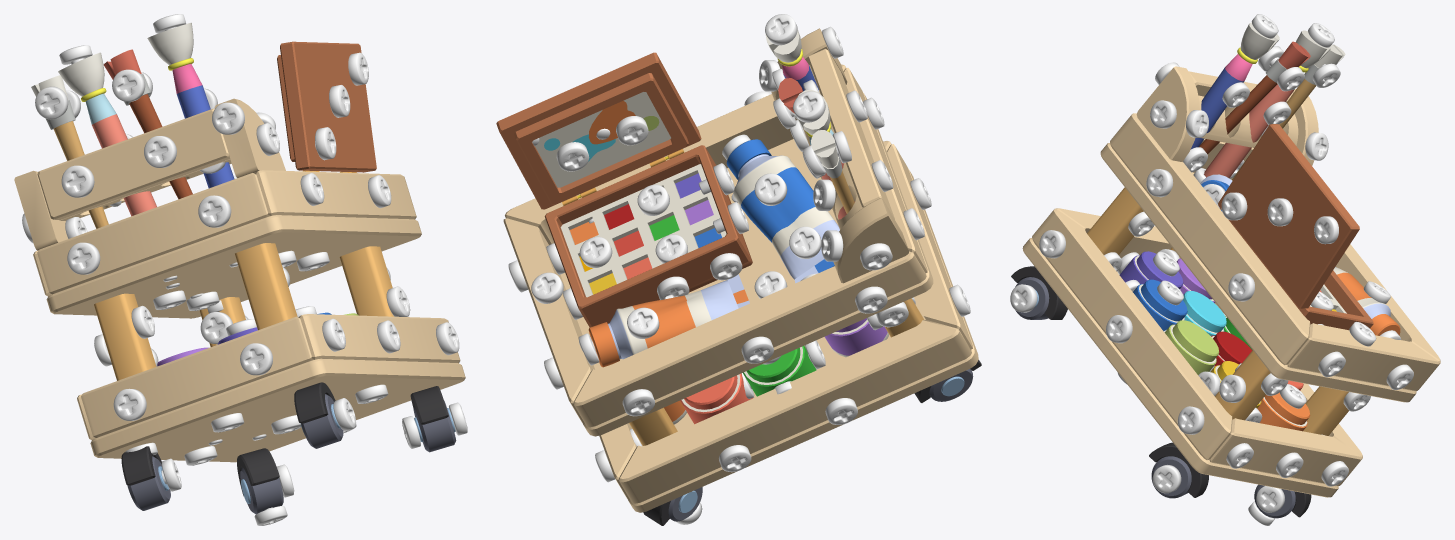
File: PaintingCart_GroupE.fbx
The picture shows the model from 3 angles, left to right: view 1: azimuth 30°, elevation 25°; view 2: azimuth 150°, elevation 25°; view 3: azimuth 270°, elevation 25°; orthographic projection. The views are drawn at different scales.
Visible parts, largest first — view 1: Screw (×22), PaintingCart_038, PaintingCart_033, PaintingCart_016, PaintingCart_036, PaintingCart_041, PaintingCart_006, PaintingCart_035, PaintingCart_032, PaintingCart_005, PaintingCart_040, PaintingCart_013 (+9 smaller); view 2: PaintingCart_039, Screw (×24), PaintingCart_016, PaintingCart_034, PaintingCart_017, PaintingCart_033, PaintingCart_007, PaintingCart_002, PaintingCart_042, PaintingCart_038, PaintingCart_035, PaintingCart_020 (+18 smaller); view 3: Screw (×23), PaintingCart_016, PaintingCart_035, PaintingCart_040, PaintingCart_033, PaintingCart_038, PaintingCart_005, PaintingCart_042, PaintingCart_037, PaintingCart_032, PaintingCart_004, PaintingCart_013 (+20 smaller).
Boxes of the visible parts, x1,y1,x2,y2 form: Screw (×22): [35, 52, 459, 430]; PaintingCart_038: [90, 358, 465, 462]; PaintingCart_033: [46, 215, 421, 318]; PaintingCart_016: [277, 41, 376, 172]; PaintingCart_036: [37, 173, 267, 294]; PaintingCart_041: [81, 316, 311, 437]; PaintingCart_006: [37, 108, 230, 219]; PaintingCart_035: [254, 170, 416, 219]; PaintingCart_032: [31, 52, 160, 228]; PaintingCart_005: [103, 22, 234, 199]; PaintingCart_040: [298, 314, 460, 363]; PaintingCart_013: [235, 243, 297, 330]; PaintingCart_039: [619, 320, 971, 503]; Screw (×24): [531, 14, 908, 472]; PaintingCart_016: [496, 52, 701, 209]; PaintingCart_034: [573, 251, 926, 427]; PaintingCart_017: [560, 164, 726, 297]; PaintingCart_033: [560, 92, 933, 436]; PaintingCart_007: [726, 139, 839, 283]; PaintingCart_002: [588, 274, 749, 367]; PaintingCart_042: [503, 218, 594, 424]; PaintingCart_038: [628, 169, 978, 512]; PaintingCart_035: [505, 64, 846, 244]; PaintingCart_020: [580, 235, 749, 326]; Screw (×23): [1010, 63, 1413, 512]; PaintingCart_016: [1218, 124, 1359, 308]; PaintingCart_035: [1110, 114, 1310, 365]; PaintingCart_040: [1032, 209, 1232, 459]; PaintingCart_033: [1100, 143, 1416, 402]; PaintingCart_038: [1022, 238, 1338, 497]; PaintingCart_005: [1190, 22, 1310, 154]; PaintingCart_042: [1287, 323, 1439, 390]; PaintingCart_037: [1209, 418, 1361, 486]; PaintingCart_032: [1204, 30, 1345, 180]; PaintingCart_004: [1136, 66, 1199, 161]; PaintingCart_013: [1087, 187, 1143, 254].
Size of the model in its own units: 8.94 by 11.65 by 9.76.
3 materials, 2 textured.
